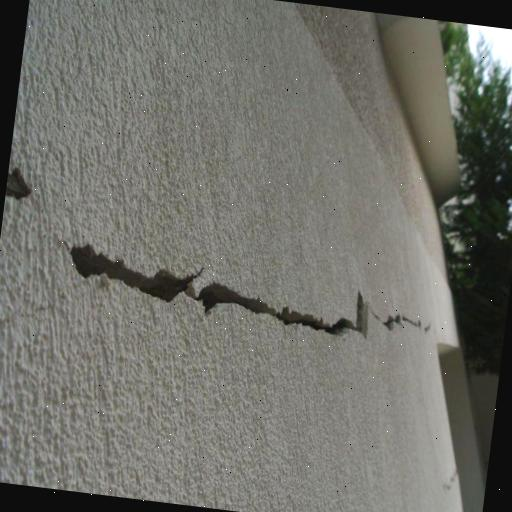spalling: (61, 229, 388, 343)
